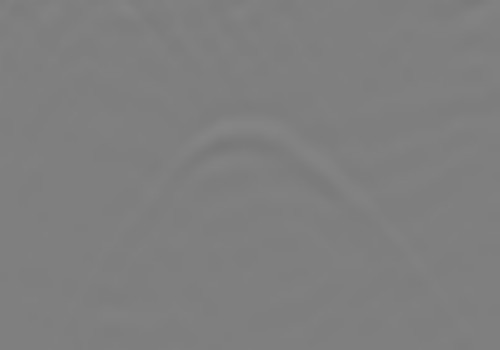hyperbola: (119, 103, 378, 281)
